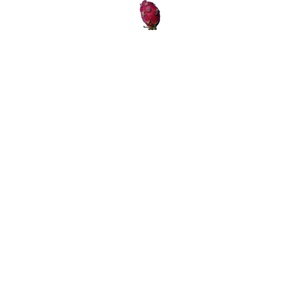pitaia: (137, 1, 161, 31)
